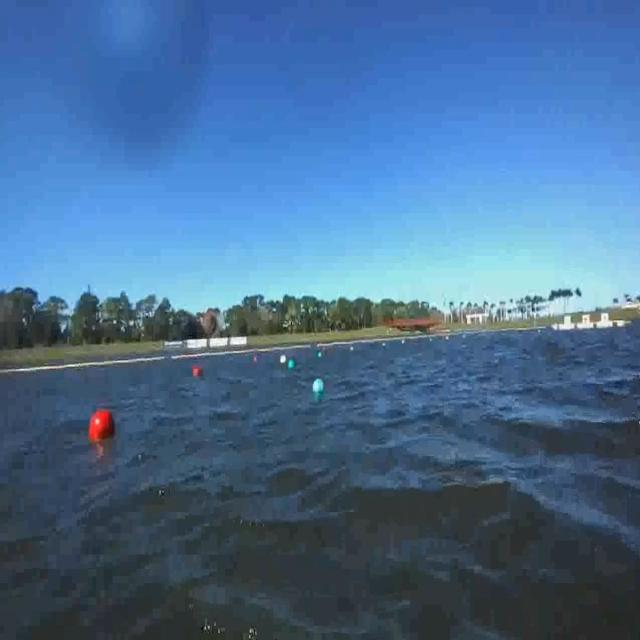green-buoy: (313, 377, 325, 397), (288, 358, 295, 370)
red-buoy: (88, 411, 115, 443), (190, 363, 208, 383)
